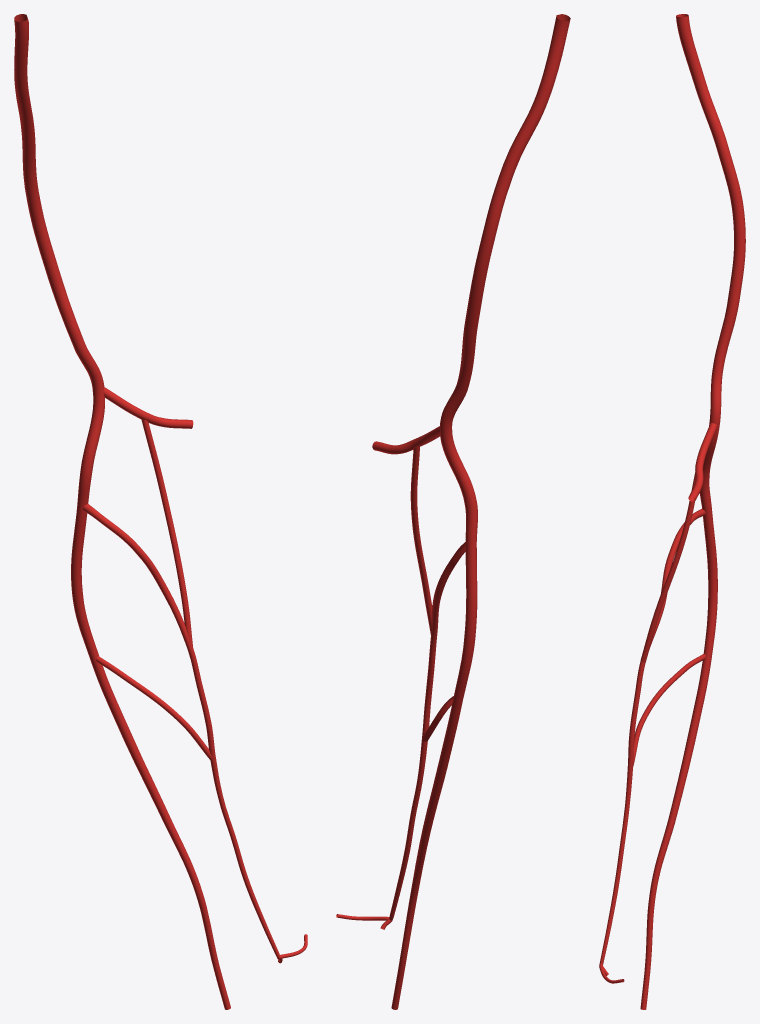
Rendered from circulatorio-basilic-vein-l.glb.
3 renders of one model, left to right at view 1: azimuth 30°, elevation 25°; view 2: azimuth 150°, elevation 25°; view 3: azimuth 270°, elevation 25°, orthographic. The views are drawn at different scales.
Parts seen in each view (by area): view 1: Basilic vein.l, Median antebrachial vein.l, Median cubital vein.l; view 2: Basilic vein.l, Median antebrachial vein.l, Median cubital vein.l; view 3: Basilic vein.l, Median antebrachial vein.l, Median cubital vein.l.
Part boxes in pixels (left/top/right/bottom): Basilic vein.l: left=14, top=14, right=230, bottom=1009; Median antebrachial vein.l: left=83, top=504, right=307, bottom=963; Median cubital vein.l: left=103, top=387, right=193, bottom=648; Basilic vein.l: left=391, top=14, right=570, bottom=1009; Median antebrachial vein.l: left=336, top=540, right=476, bottom=929; Median cubital vein.l: left=372, top=426, right=439, bottom=636; Basilic vein.l: left=640, top=14, right=745, bottom=1009; Median antebrachial vein.l: left=599, top=509, right=705, bottom=983; Median cubital vein.l: left=640, top=422, right=717, bottom=662.
Bounding box in the file's own units: 0.1239 × 0.4668 × 0.0679.
